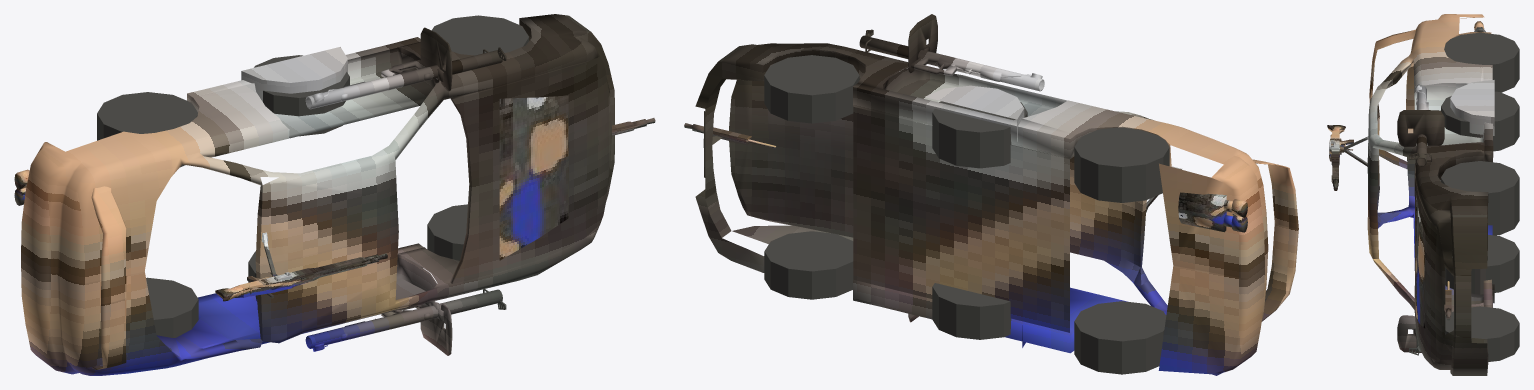
Rendered from default_static_model.glb.
3 renders of one model, left to right at view 1: azimuth 30°, elevation 25°; view 2: azimuth 150°, elevation 25°; view 3: azimuth 270°, elevation 25°, orthographic. The views are drawn at different scales.
Size of the model in its own units: 210 by 102 by 73.26.
1 material, 1 textured.
